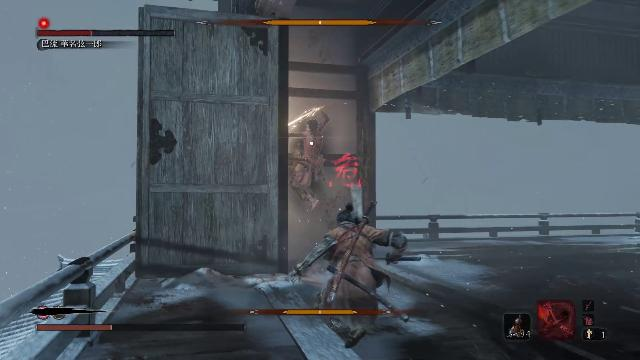sk: (288, 204, 408, 345)
